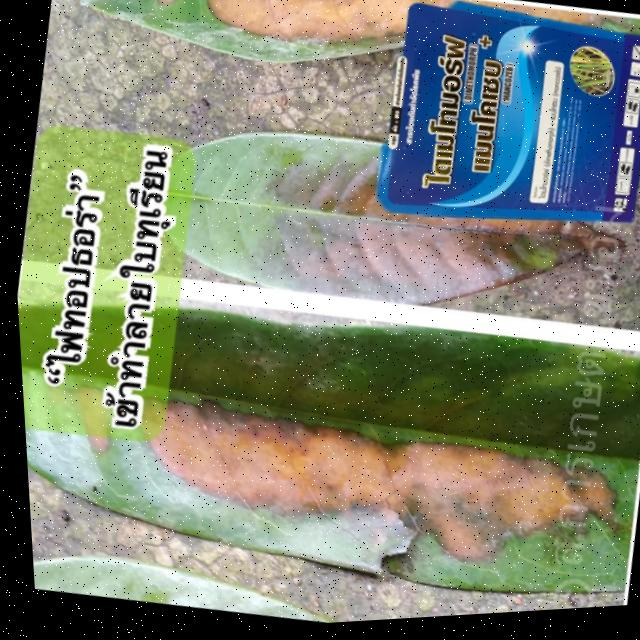Phytophthora: (133, 272, 551, 621), (100, 0, 387, 105), (207, 132, 376, 307)
